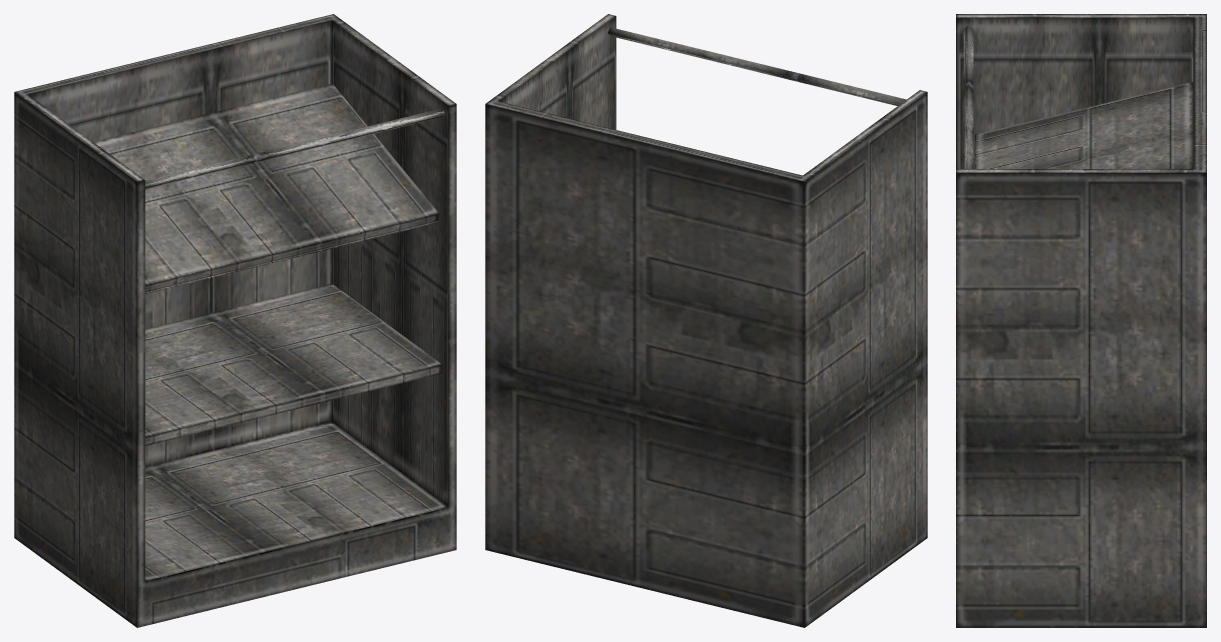
The model's file is eqp_comp_storage_section.fbx.
3 renders of one model, left to right at view 1: azimuth 30°, elevation 25°; view 2: azimuth 150°, elevation 25°; view 3: azimuth 270°, elevation 25°, orthographic. The views are drawn at different scales.
Parts seen in each view (by area): view 1: mesh_node; view 2: mesh_node; view 3: mesh_node.
Boxes of the visible parts, box(x1,y1,x2,y2) form: mesh_node: box(14, 14, 456, 627); mesh_node: box(485, 14, 927, 627); mesh_node: box(956, 14, 1206, 627).
Size of the model in its own units: 0.75 by 1 by 0.5.
1 material, 1 textured.
